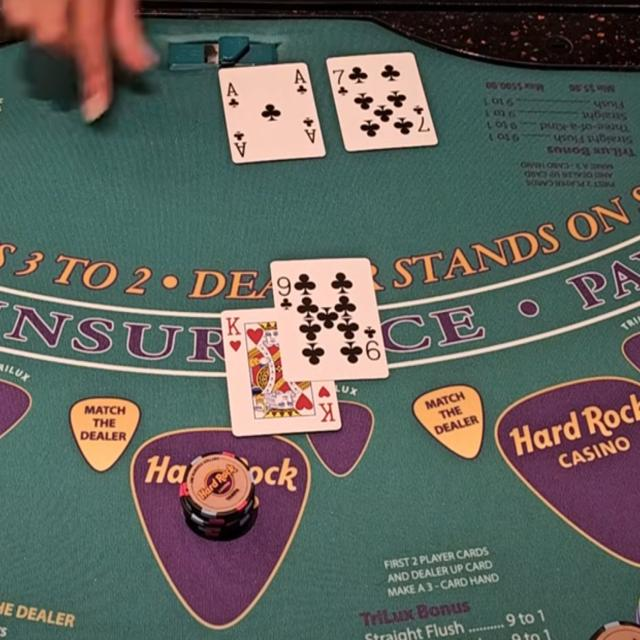7: (330, 66, 346, 86)
9: (275, 274, 292, 298)
A: (225, 78, 239, 98)
K: (224, 315, 242, 338)
